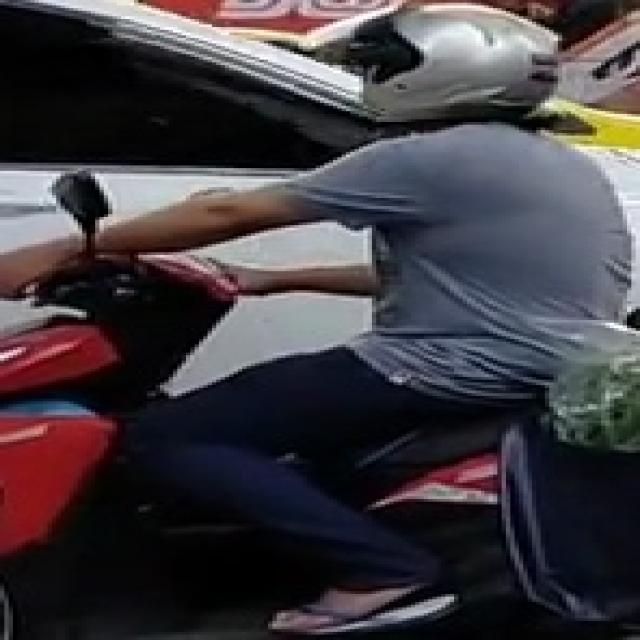door: (0, 0, 635, 637)
helmet: (337, 0, 562, 122)
